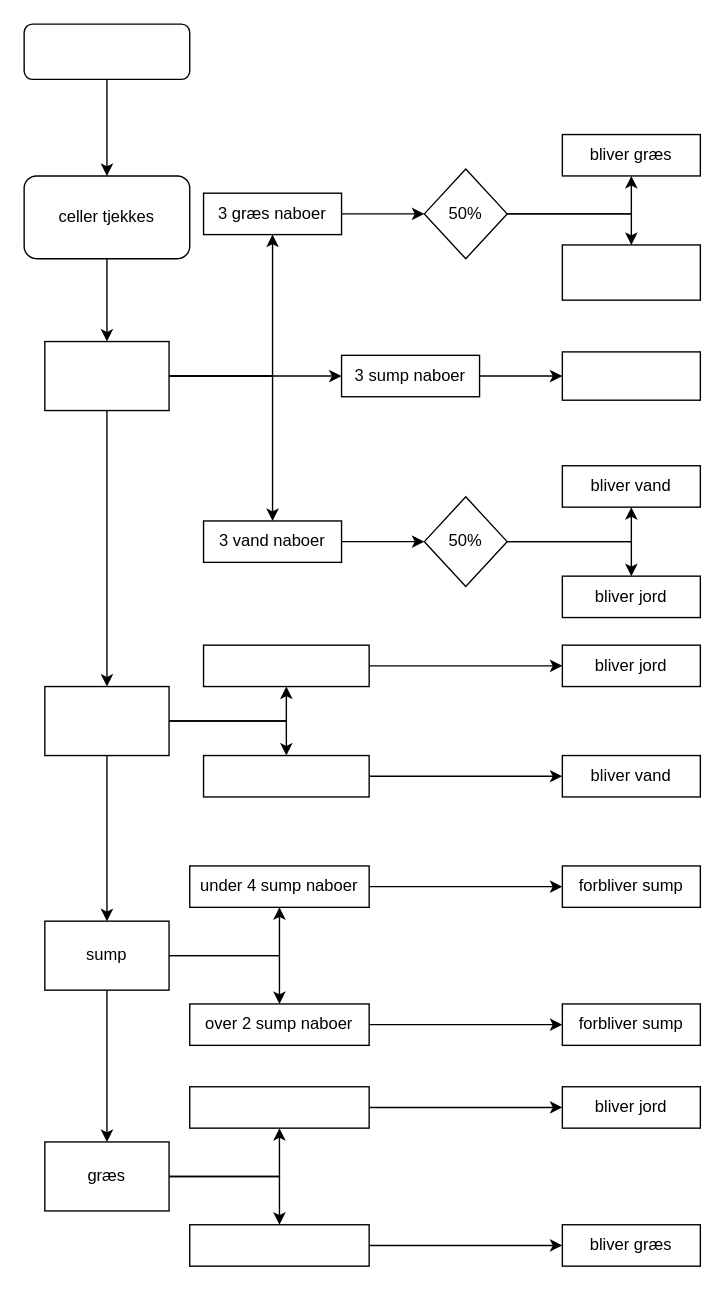
Image size: 725x1290. Some labels were removed from this diagram. The shapes that lost their labels are listed below. From the top down, each one's centre as x and y in pixels, then its label:
At (106,51): "Program start".
At (630,272): "bliver groende græs".
At (106,375): "Jord".
At (630,375): "bliver til sump".
At (285,665): "under 2 vand naboer".
At (106,720): "Vand".
At (285,775): "over 3 vand naboer".
At (278,1106): "under 2 græs naboer".
At (278,1244): "over 3 græs naboer".
